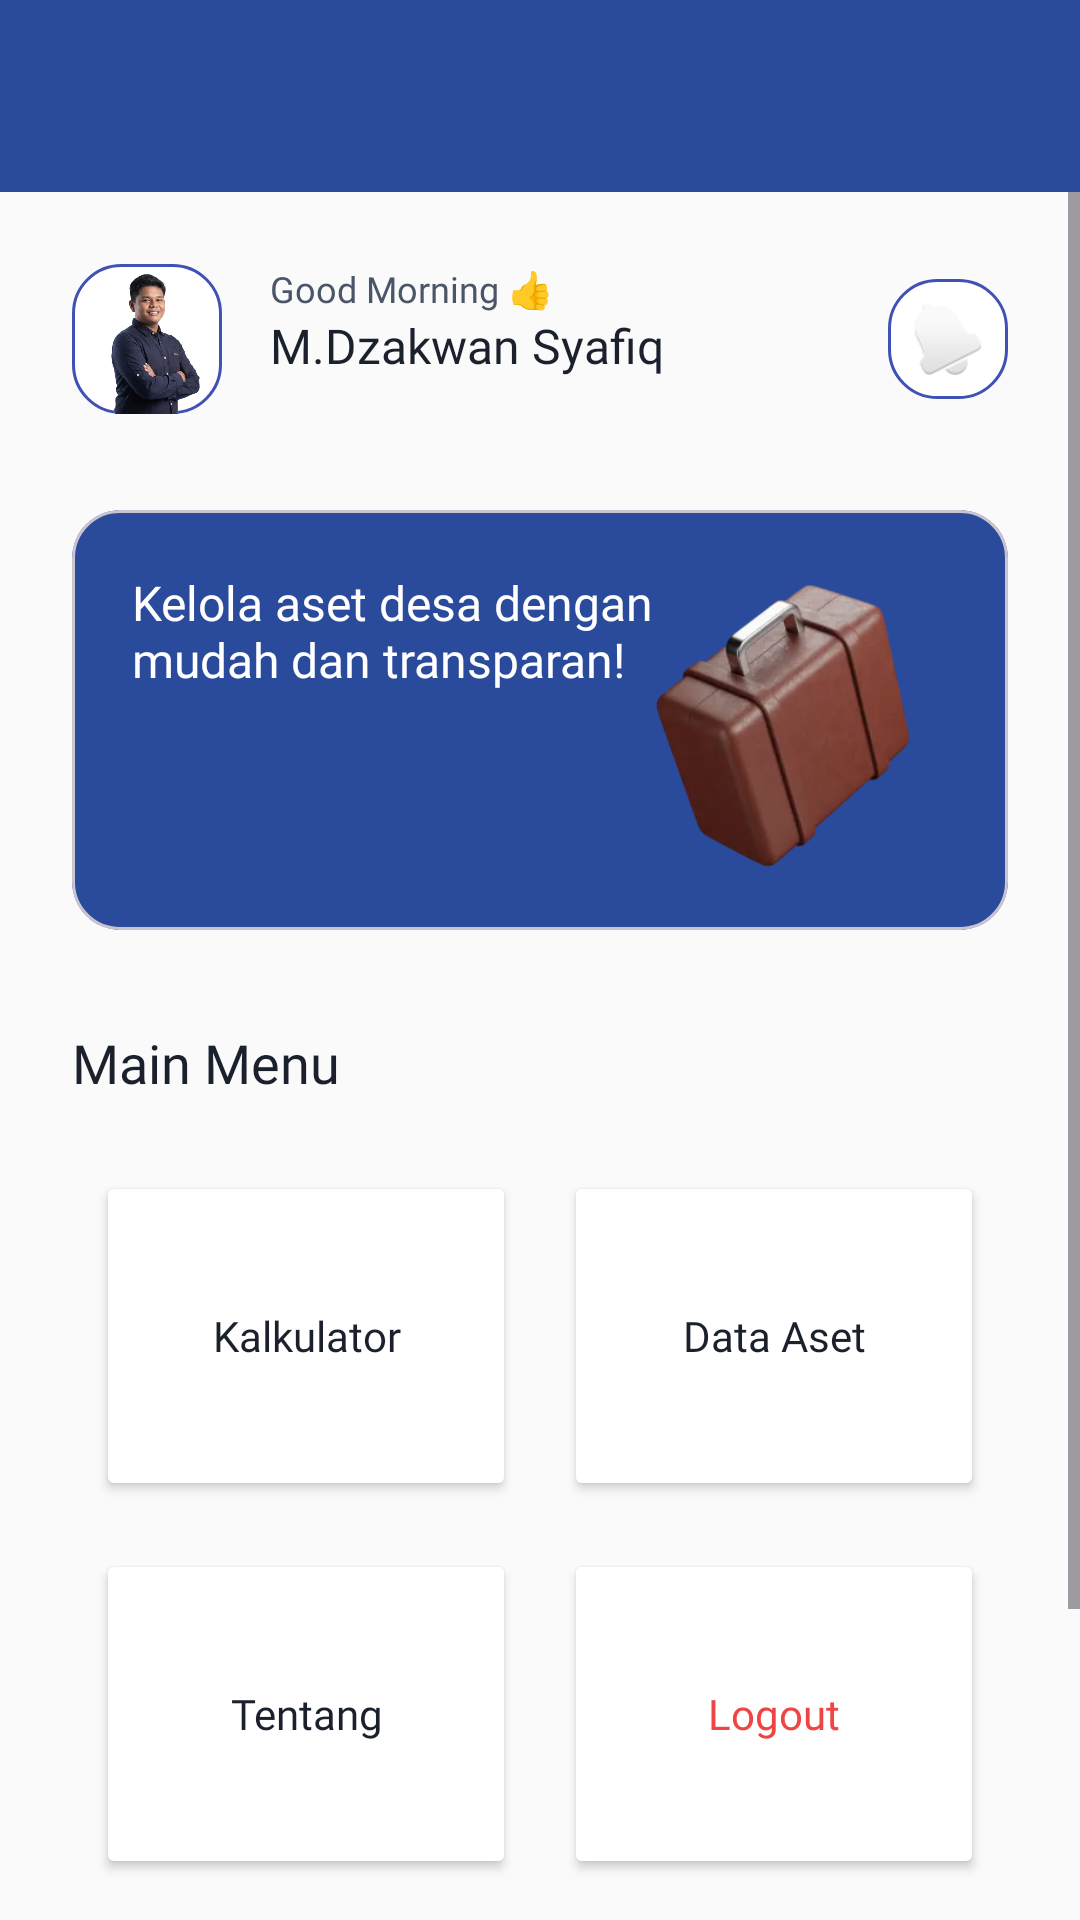

Point at icon controls on the screen. Image size 1080×1920, points as (x=x, y=y).
foto: (x=147, y=339)
koper: (x=765, y=726)
